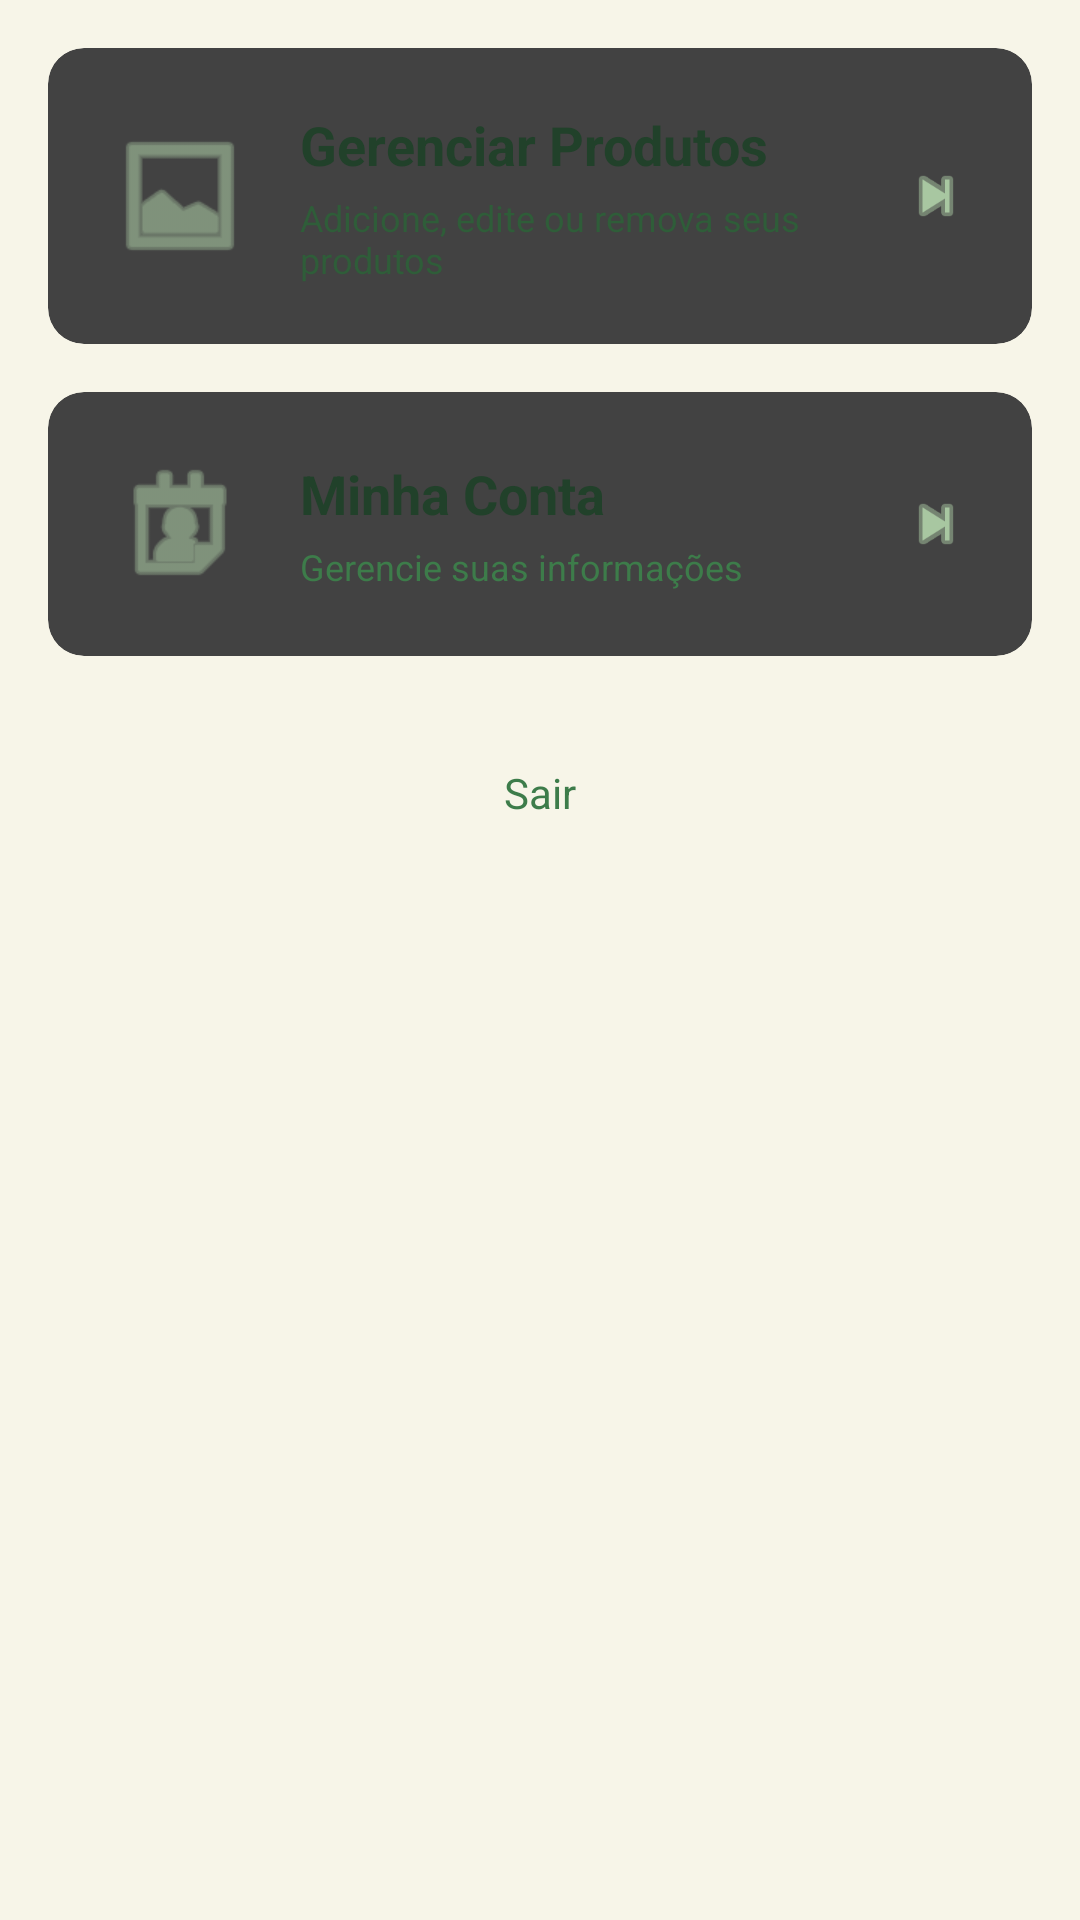

Named icons in this screenshot (1080x1920) and their centers, [x,y]:
calendar: [180,522]
gallery: [180,196]
next: [936,196], [936,524]
